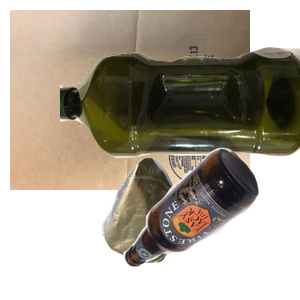cardboard: (10, 10, 250, 190)
glass: (120, 145, 300, 300)
plastic: (60, 44, 300, 195)
trash: (99, 155, 268, 300)
